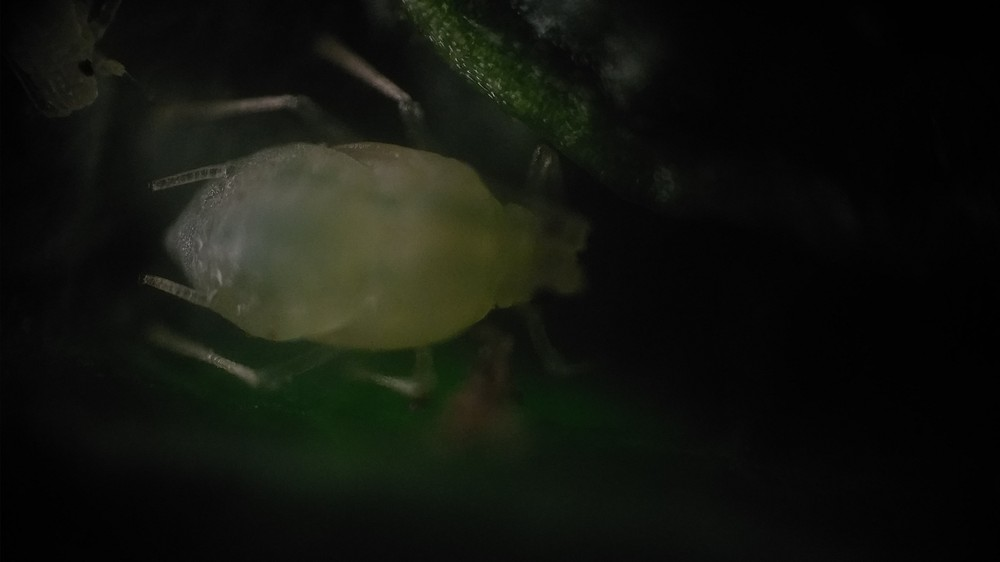Pulgon: (113, 58, 645, 426)
